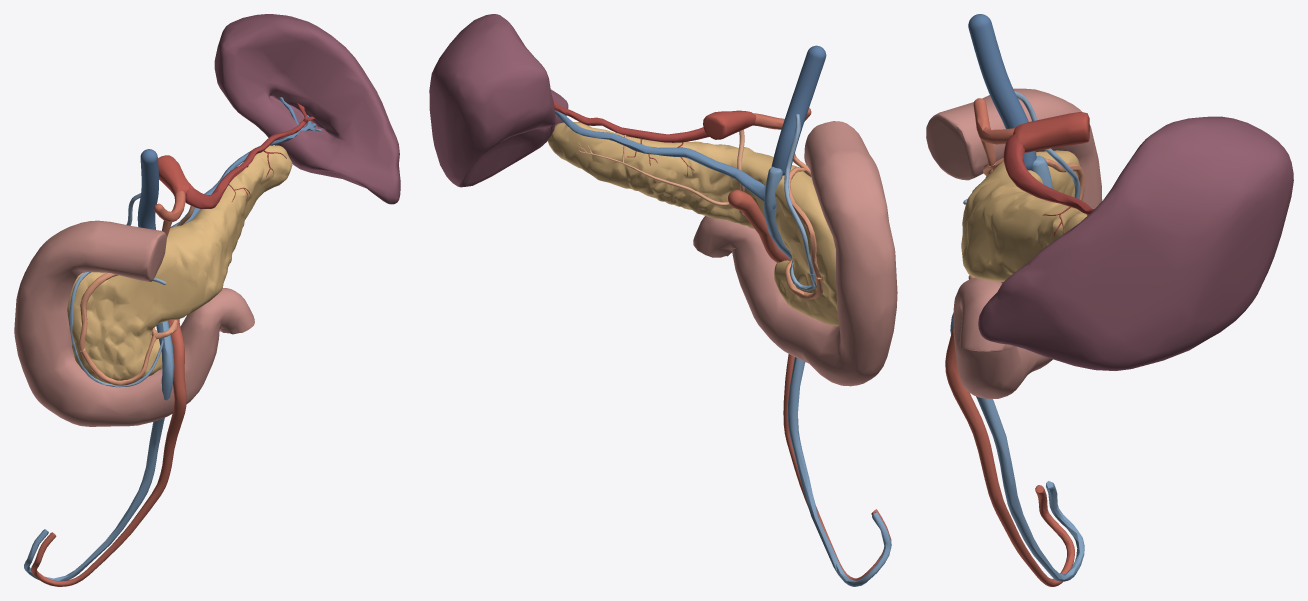
Rendered from pancreas.glb.
The picture shows the model from 3 angles, left to right: view 1: azimuth 30°, elevation 25°; view 2: azimuth 150°, elevation 25°; view 3: azimuth 270°, elevation 25°; orthographic projection. The views are drawn at different scales.
Visible parts, largest first — view 1: duodenum, spleen, pancreas, superior-mesenteric-artery, superior-mesenteric-vein, splenic-artery, pancreaticoduodenal-arteries, portal-vein, pancreaticoduodenal-veins, celiac-trunk, splenic-vein, common-hepatic-artery; view 2: duodenum, spleen, pancreas, superior-mesenteric-vein, superior-mesenteric-artery, portal-vein, splenic-vein, splenic-artery, pancreaticoduodenal-arteries, celiac-trunk, pancreaticoduodenal-veins, pancreatic-arteries; view 3: spleen, duodenum, pancreas, superior-mesenteric-artery, superior-mesenteric-vein, portal-vein, celiac-trunk, splenic-artery, common-hepatic-artery, pancreaticoduodenal-veins, pancreaticoduodenal-arteries.
Boxes of the visible parts, x1,y1,x2,y2 form: duodenum: (14, 220, 254, 426); spleen: (214, 14, 400, 204); pancreas: (67, 145, 292, 385); superior-mesenteric-artery: (31, 319, 186, 586); superior-mesenteric-vein: (24, 321, 174, 581); splenic-artery: (185, 103, 314, 208); pancreaticoduodenal-arteries: (79, 272, 177, 385); portal-vein: (137, 149, 158, 229); pancreaticoduodenal-veins: (69, 193, 165, 387); celiac-trunk: (158, 155, 193, 196); splenic-vein: (170, 97, 321, 227); common-hepatic-artery: (154, 191, 185, 221); duodenum: (693, 121, 897, 386); spleen: (429, 14, 568, 187); pancreas: (547, 122, 839, 326); superior-mesenteric-vein: (763, 166, 890, 586); superior-mesenteric-artery: (728, 190, 891, 580); portal-vein: (771, 45, 826, 175); splenic-vein: (555, 110, 776, 208); splenic-artery: (553, 99, 709, 176); pancreaticoduodenal-arteries: (785, 157, 822, 299); celiac-trunk: (703, 110, 756, 139); pancreaticoduodenal-veins: (784, 114, 816, 290); pancreatic-arteries: (577, 129, 744, 205); spleen: (978, 116, 1293, 370); duodenum: (926, 88, 1102, 399); pancreas: (961, 150, 1087, 281); superior-mesenteric-artery: (945, 282, 1074, 586); superior-mesenteric-vein: (950, 155, 1084, 581); portal-vein: (968, 14, 1036, 170); celiac-trunk: (1013, 112, 1089, 152); splenic-artery: (1003, 133, 1094, 236); common-hepatic-artery: (973, 98, 1014, 144); pancreaticoduodenal-veins: (963, 91, 1080, 204); pancreaticoduodenal-arteries: (968, 158, 1084, 279).
Bounding box in the file's own units: 2.87 × 3.4 × 1.77.
